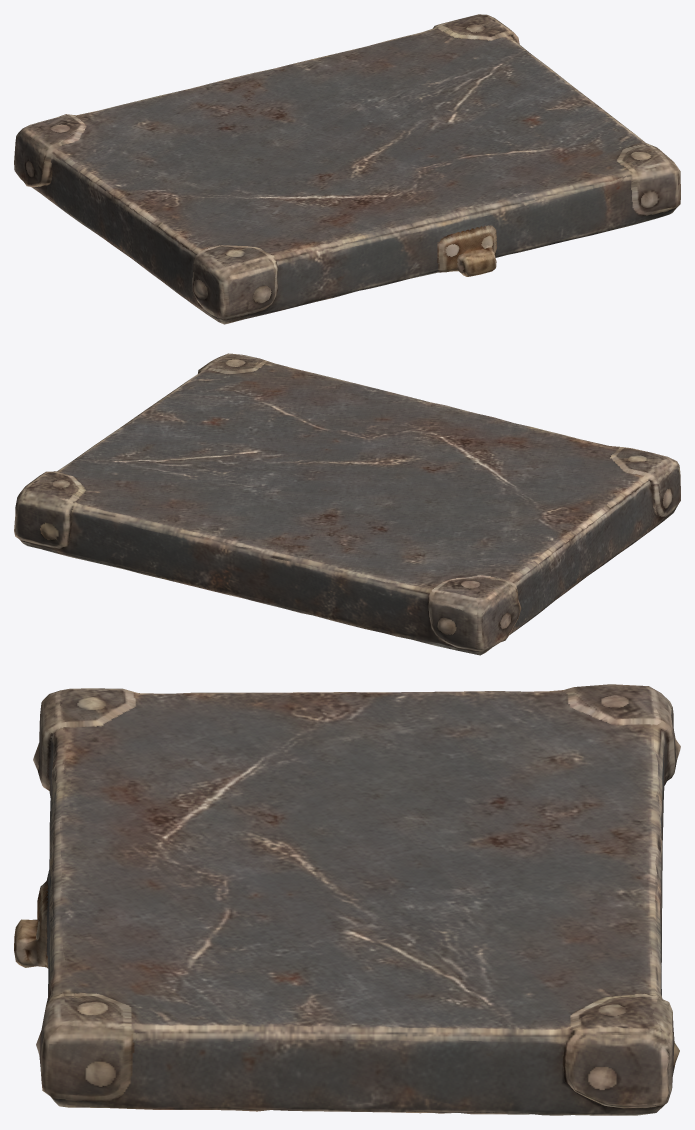
File: bunker_supply_chest_lid_candidate.glb
3 renders of one model, top to bottom at view 1: azimuth 30°, elevation 25°; view 2: azimuth 150°, elevation 25°; view 3: azimuth 270°, elevation 25°, orthographic. The views are drawn at different scales.
Visible parts, largest first — view 1: bunker_supply_chest_lid_candidate; view 2: bunker_supply_chest_lid_candidate; view 3: bunker_supply_chest_lid_candidate.
Boxes of the visible parts, bbox=[...] form: bunker_supply_chest_lid_candidate: bbox=[14, 14, 680, 324]; bunker_supply_chest_lid_candidate: bbox=[14, 353, 680, 655]; bunker_supply_chest_lid_candidate: bbox=[14, 684, 680, 1115].
Size of the model in its own units: 0.92 by 0.11 by 0.72.
Materials: 1 (1 with a texture image).
